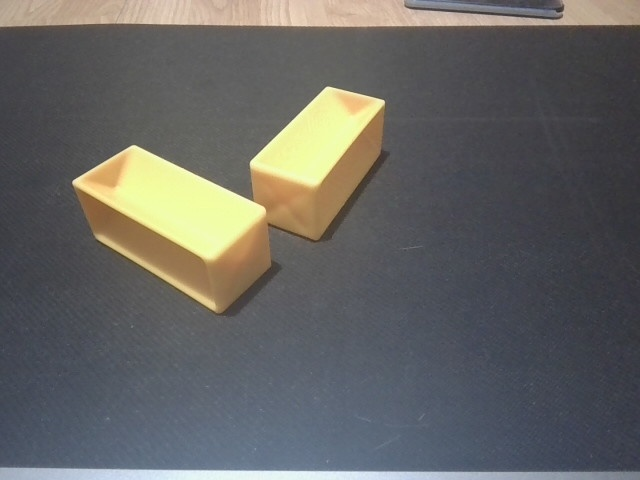YellowSample: (68, 142, 275, 318), (246, 84, 389, 245)
